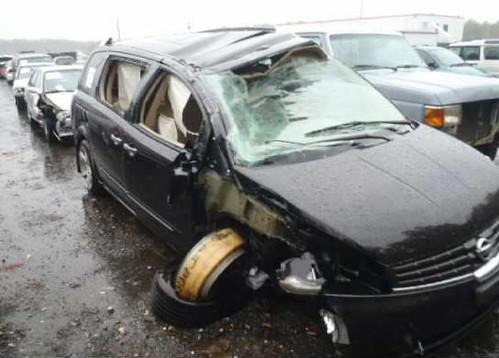Front-Windscreen-Damage: (190, 53, 371, 146)
